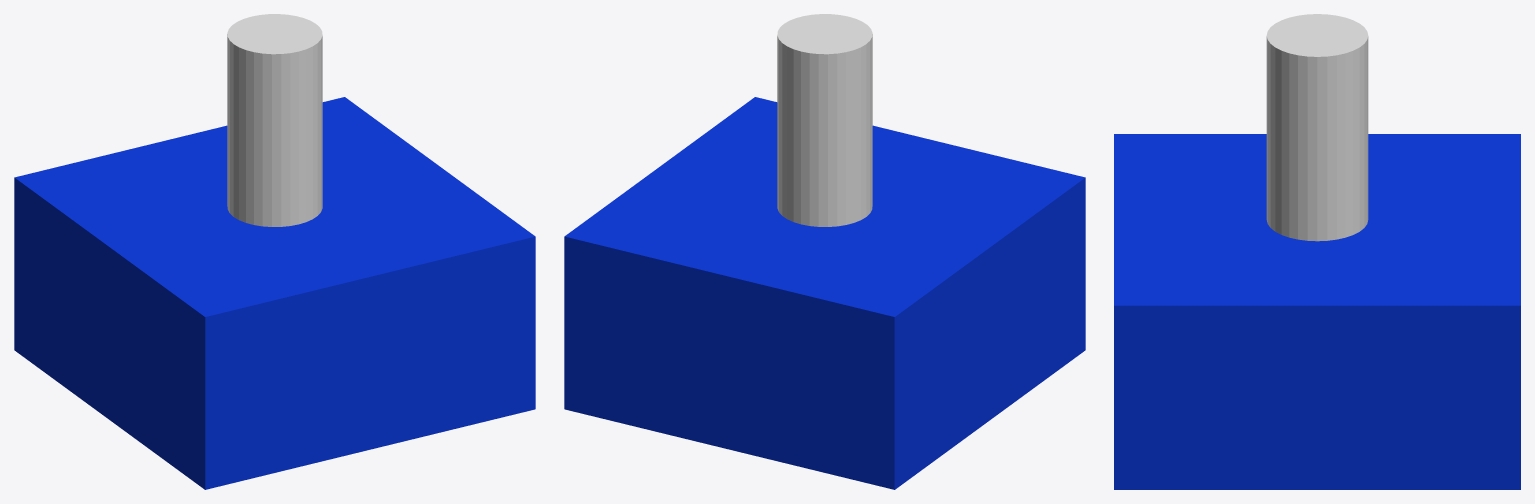
File: beamer.gltf
The picture shows the model from 3 angles, left to right: view 1: azimuth 30°, elevation 25°; view 2: azimuth 150°, elevation 25°; view 3: azimuth 270°, elevation 25°; orthographic projection. The views are drawn at different scales.
Visible parts, largest first — view 1: Cube, Cylinder; view 2: Cube, Cylinder; view 3: Cube, Cylinder.
Boxes of the visible parts, x1,y1,x2,y2 form: Cube: (14,97,535,489); Cylinder: (227,14,322,226); Cube: (564,97,1085,489); Cylinder: (777,14,872,226); Cube: (1114,134,1520,489); Cylinder: (1266,14,1368,241).
Bounding box in the file's own units: 0.4 × 0.4 × 0.4.
